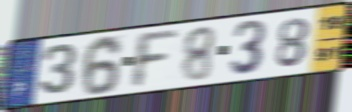3: (227, 18, 270, 77), (38, 43, 81, 97)
6: (80, 33, 125, 97)
8: (179, 24, 218, 82), (274, 16, 311, 70)
F: (131, 29, 181, 91)
